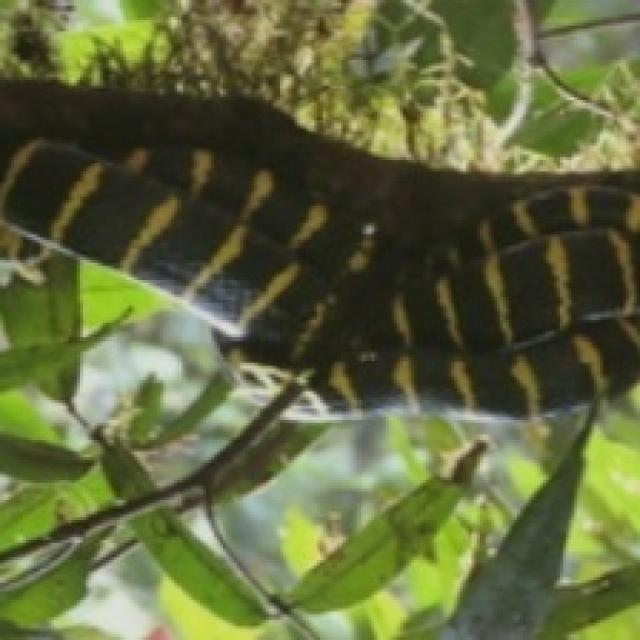mangrove cat snake: (0, 83, 637, 414)
